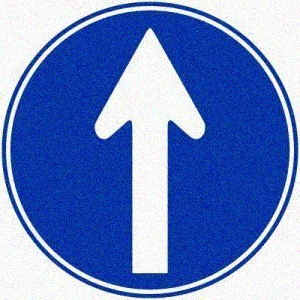Direction_sign: (6, 5, 300, 299)
